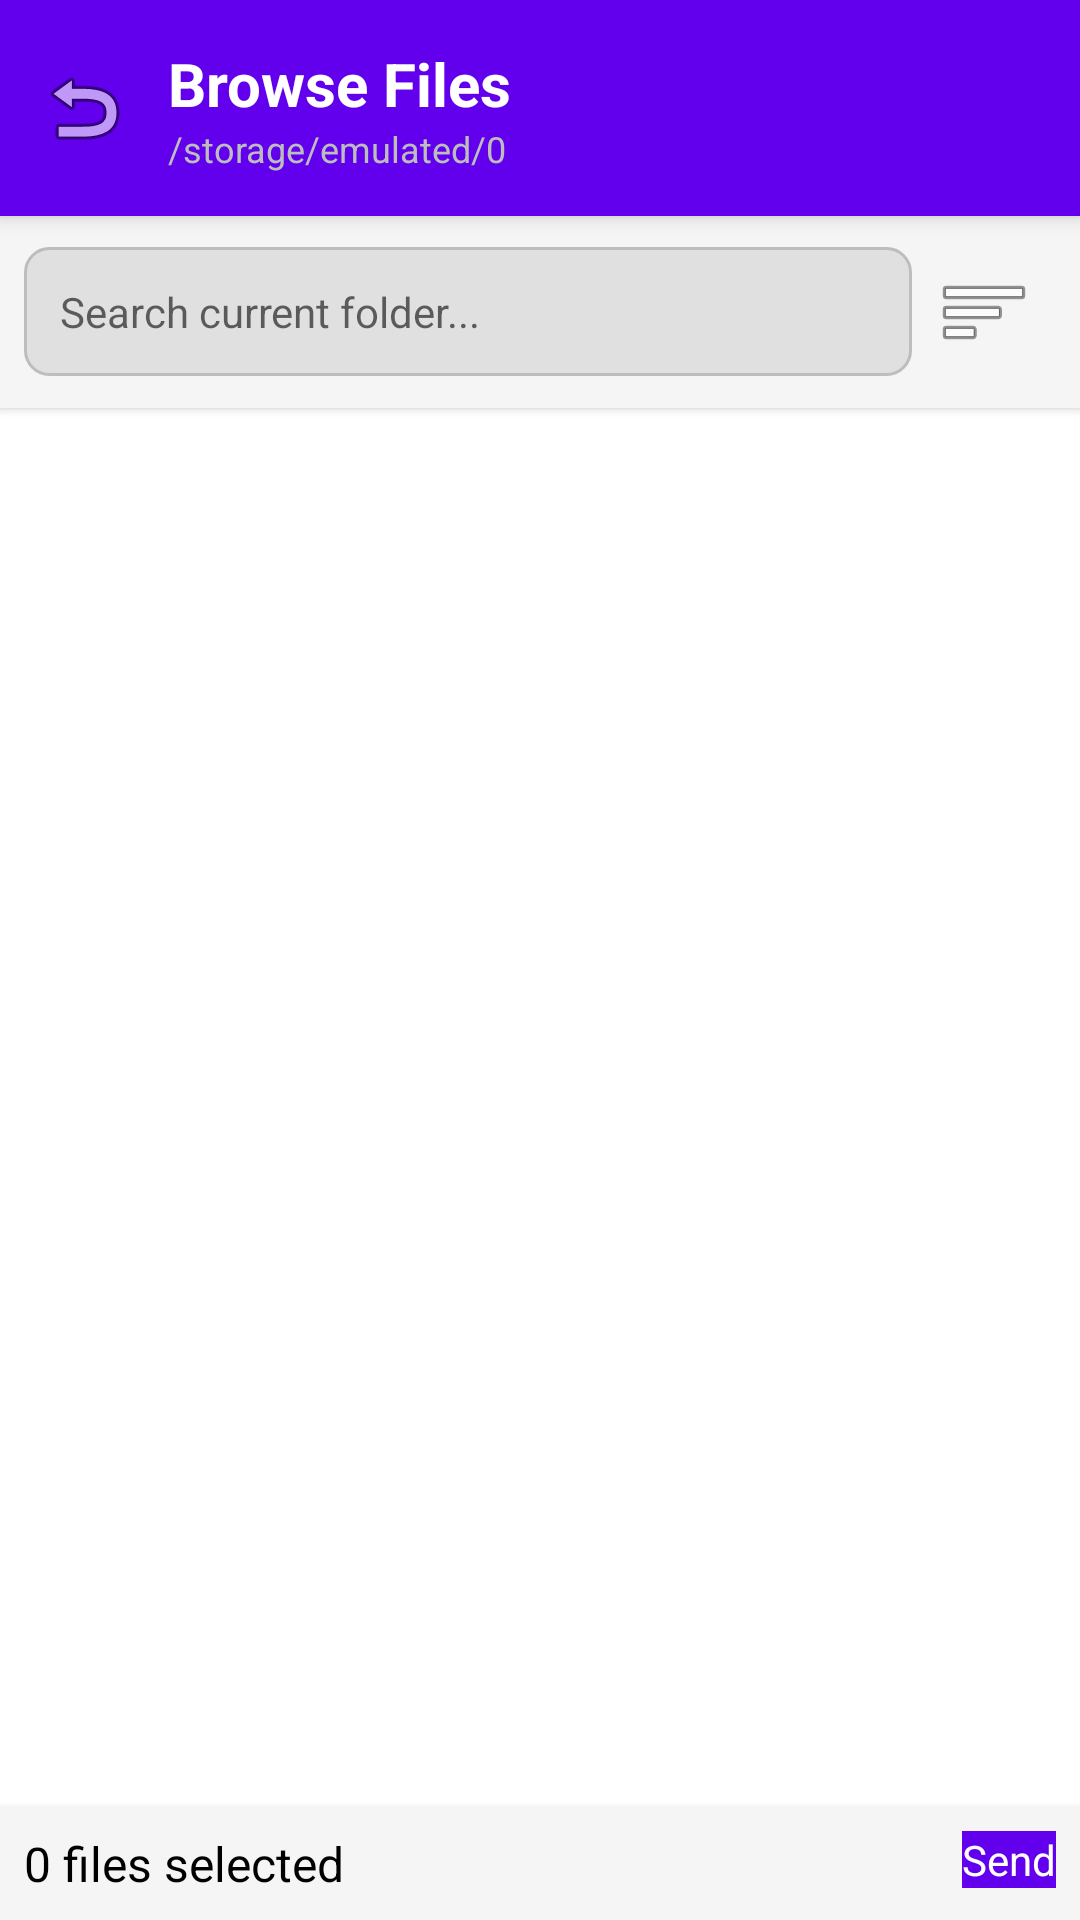

Locate icon controls on the screen. Image size 1080px×1920px, boxes as rect(x1, y1, x2, y2).
Back: rect(51, 77, 120, 140)
Filter by file type: rect(943, 286, 1025, 339)
